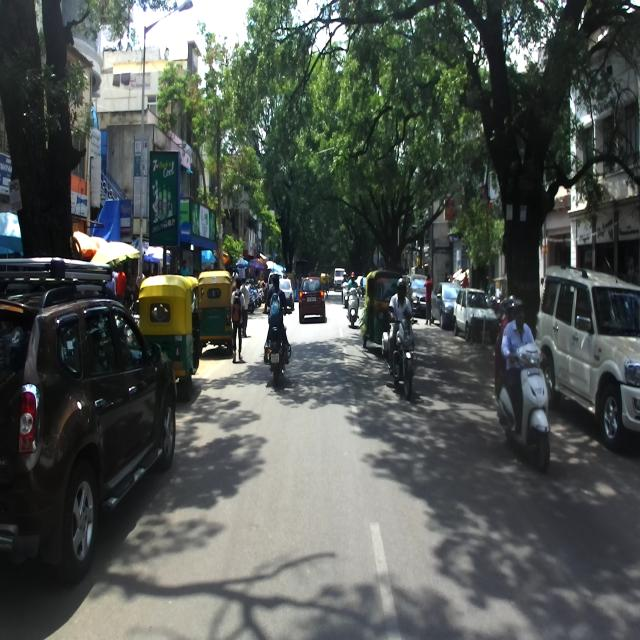auto ahead at: (198, 273, 234, 356)
car ahead at: (0, 252, 177, 572), (300, 271, 326, 327)
motorcycle ahead at: (495, 341, 557, 465), (382, 328, 418, 396)
